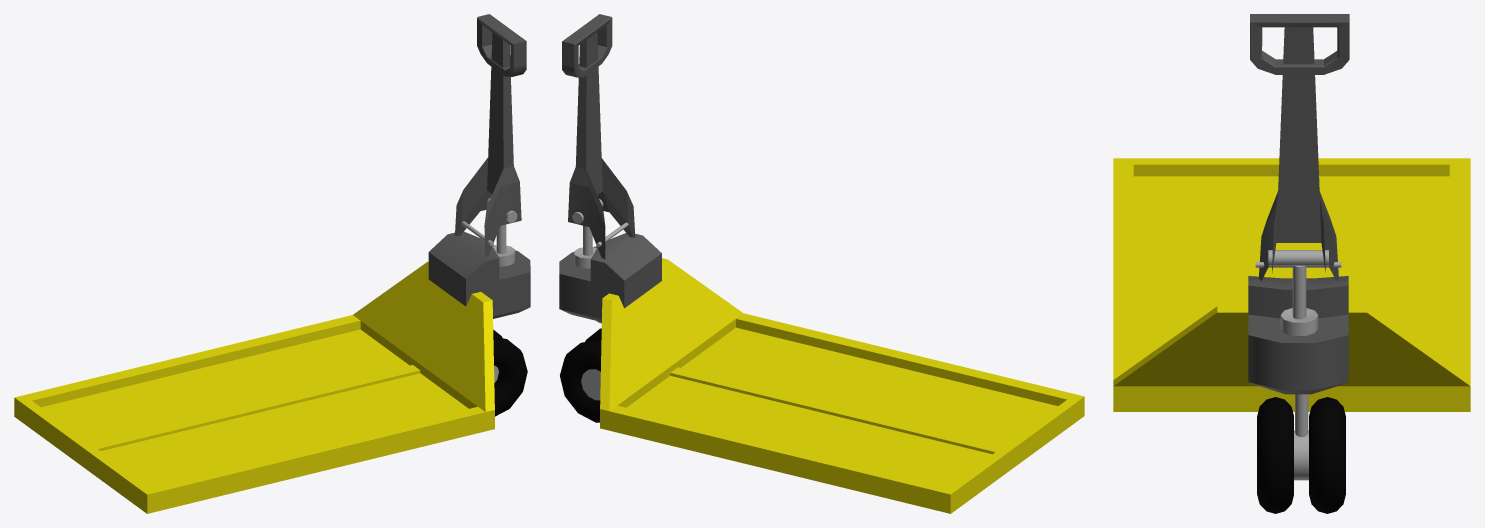
File: PalletJack.fbx
The picture shows the model from 3 angles, left to right: view 1: azimuth 30°, elevation 25°; view 2: azimuth 150°, elevation 25°; view 3: azimuth 270°, elevation 25°; orthographic projection. The views are drawn at different scales.
Visible parts, largest first — view 1: PaletPusher; view 2: PaletPusher; view 3: PaletPusher.
Boxes of the visible parts, <box> form: PaletPusher: <box>14,14,530,513</box>; PaletPusher: <box>559,14,1084,513</box>; PaletPusher: <box>1113,14,1470,513</box>.
Bounding box in the file's own units: 3.68 × 2.97 × 1.9.
